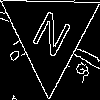N: (24, 9, 74, 67)
